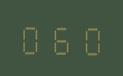six: (47, 19, 74, 56)
zero: (18, 19, 45, 55), (75, 20, 102, 56)
